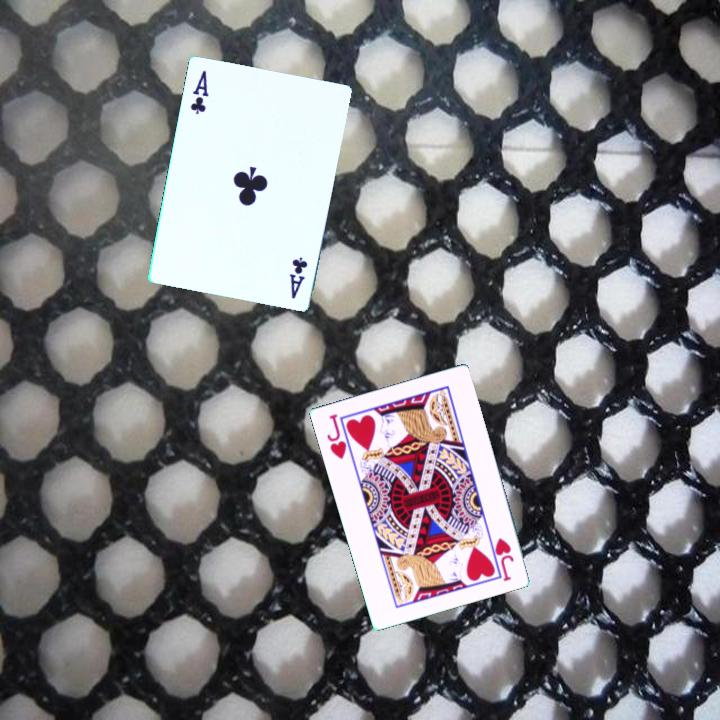Ac: (186, 66, 212, 117), (286, 253, 310, 301)
Jh: (323, 410, 349, 462), (491, 534, 516, 584)
